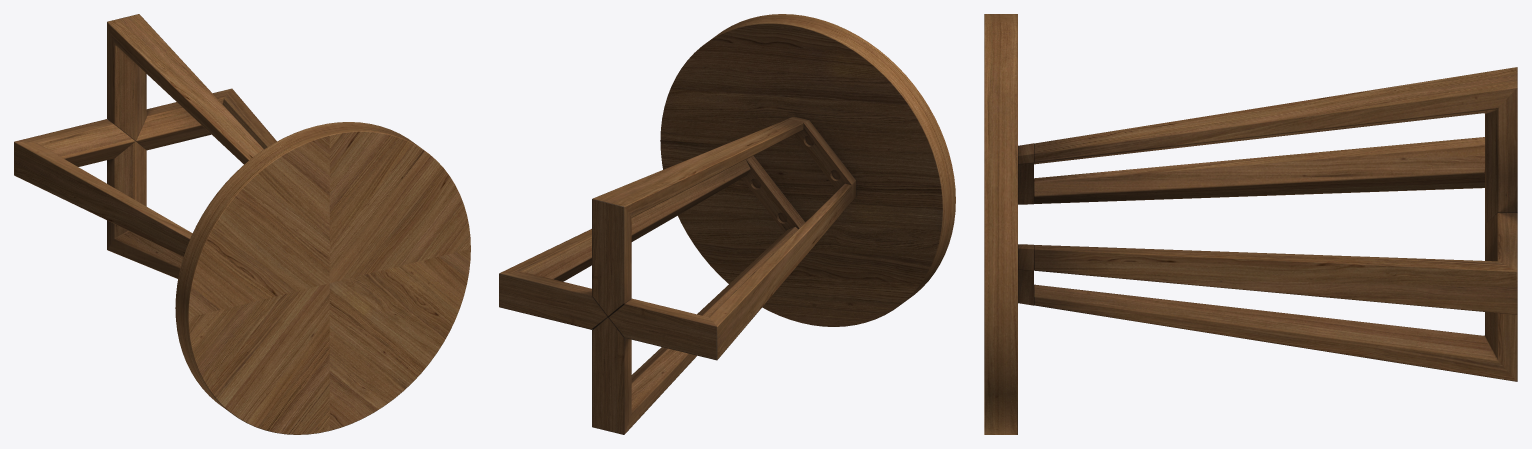
File: side_table.glb
3 views of the same model, side by side, from view 1: azimuth 30°, elevation 25°; view 2: azimuth 150°, elevation 25°; view 3: azimuth 270°, elevation 25° (orthographic). The views are drawn at different scales.
Parts seen in each view (by area): view 1: Belgrave_Side_Table; view 2: Belgrave_Side_Table; view 3: Belgrave_Side_Table.
Part boxes in pixels (x1,y1,x2,y2): Belgrave_Side_Table: (14, 14, 470, 434); Belgrave_Side_Table: (499, 14, 955, 434); Belgrave_Side_Table: (984, 14, 1517, 434).
Bounding box in the file's own units: 0.3154 × 0.3154 × 0.3994.
Materials: 1 (1 with a texture image).
